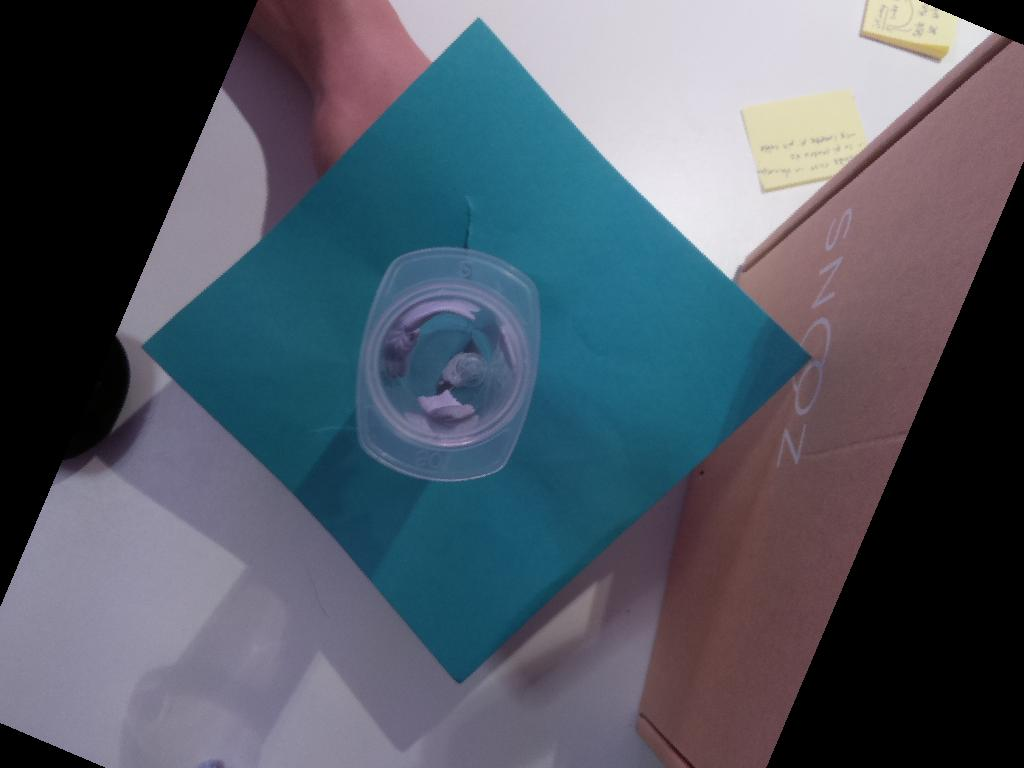dirty: (349, 246, 545, 482)
